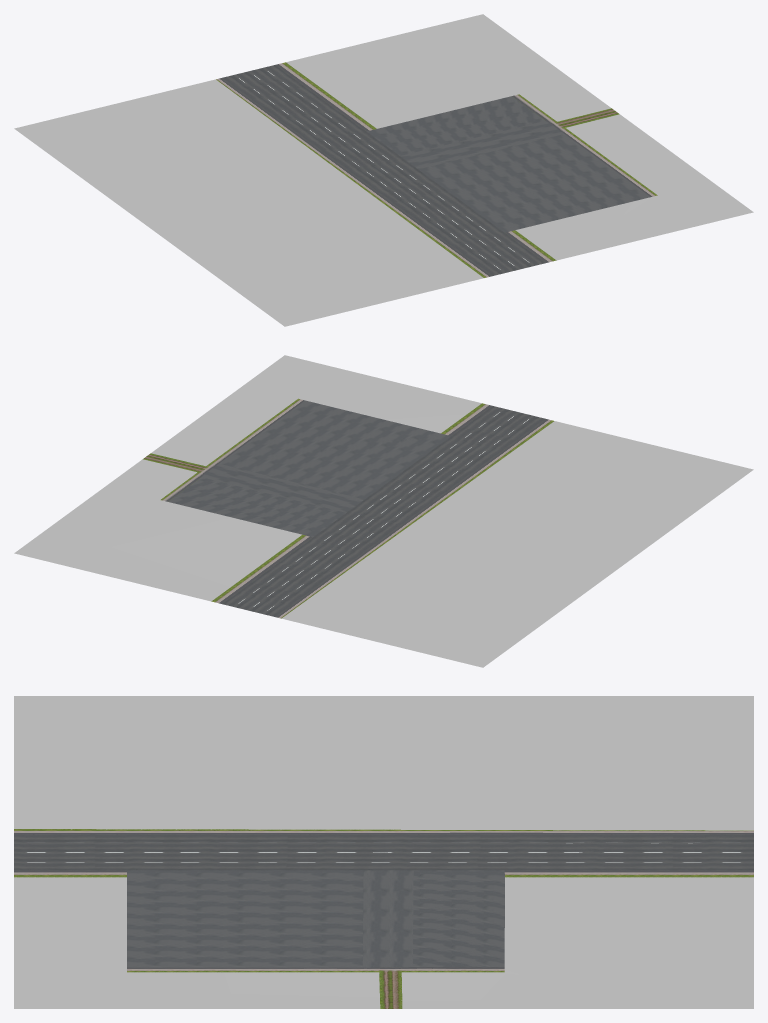
The model's file is road6.FBX.
3 renders of one model, top to bottom at view 1: azimuth 30°, elevation 25°; view 2: azimuth 150°, elevation 25°; view 3: azimuth 270°, elevation 25°, orthographic. The views are drawn at different scales.
Visible parts, largest first — view 1: road; view 2: road; view 3: road.
Part boxes in pixels (box(x1,y1,x2,y2)): road: box(14, 14, 753, 326); road: box(14, 355, 753, 667); road: box(14, 696, 753, 1008).
Size of the model in its own units: 12000 by 2.47 by 12000.
